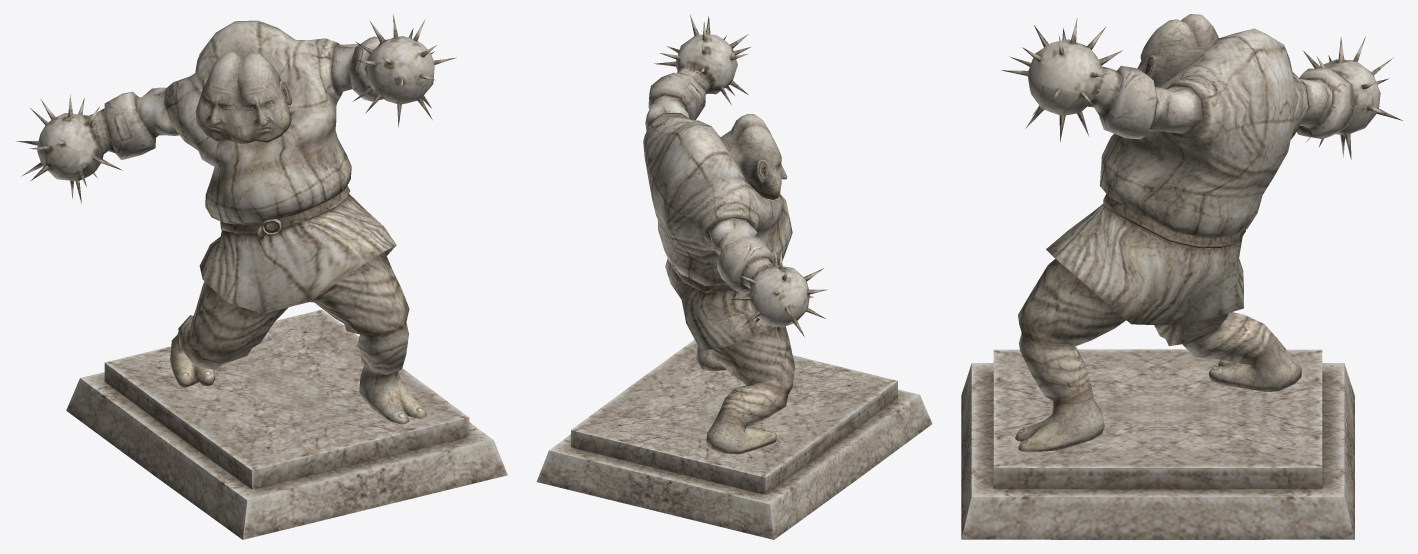
Rendered from nogumpStatue.dae.
3 renders of one model, left to right at view 1: azimuth 30°, elevation 25°; view 2: azimuth 150°, elevation 25°; view 3: azimuth 270°, elevation 25°, orthographic. The views are drawn at different scales.
Visible parts, largest first — view 1: NogumpStatue; view 2: NogumpStatue; view 3: NogumpStatue.
Part boxes in pixels (<box>): NogumpStatue: <box>15,14,507,539</box>; NogumpStatue: <box>536,15,932,539</box>; NogumpStatue: <box>961,14,1402,539</box>.
Bounding box in the file's own units: 3.83 × 5.1 × 4.18.
Materials: 1 (1 with a texture image).
